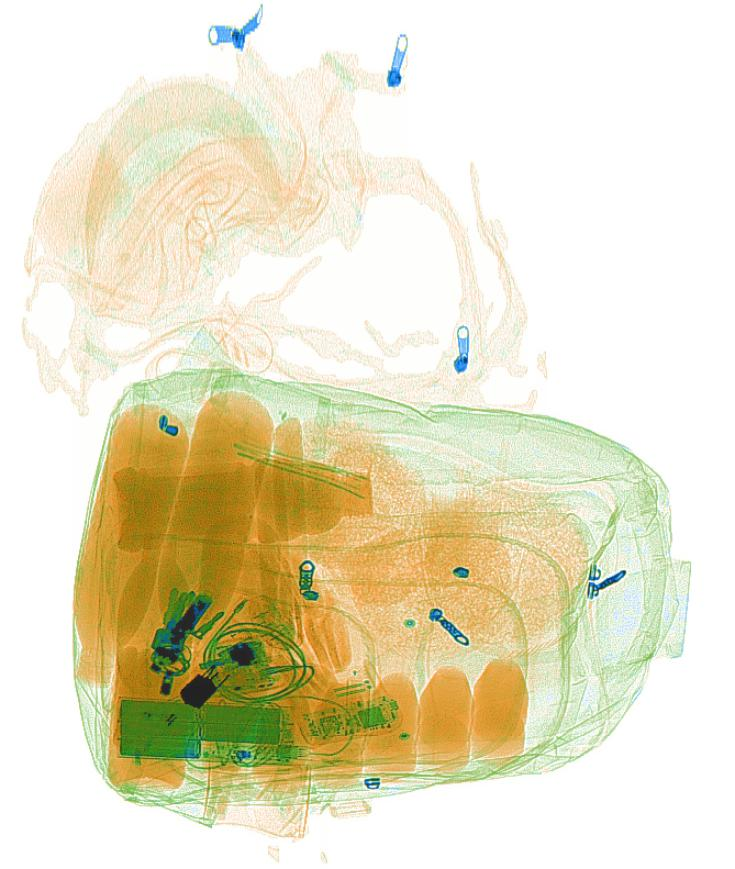battery: (114, 695, 297, 766)
